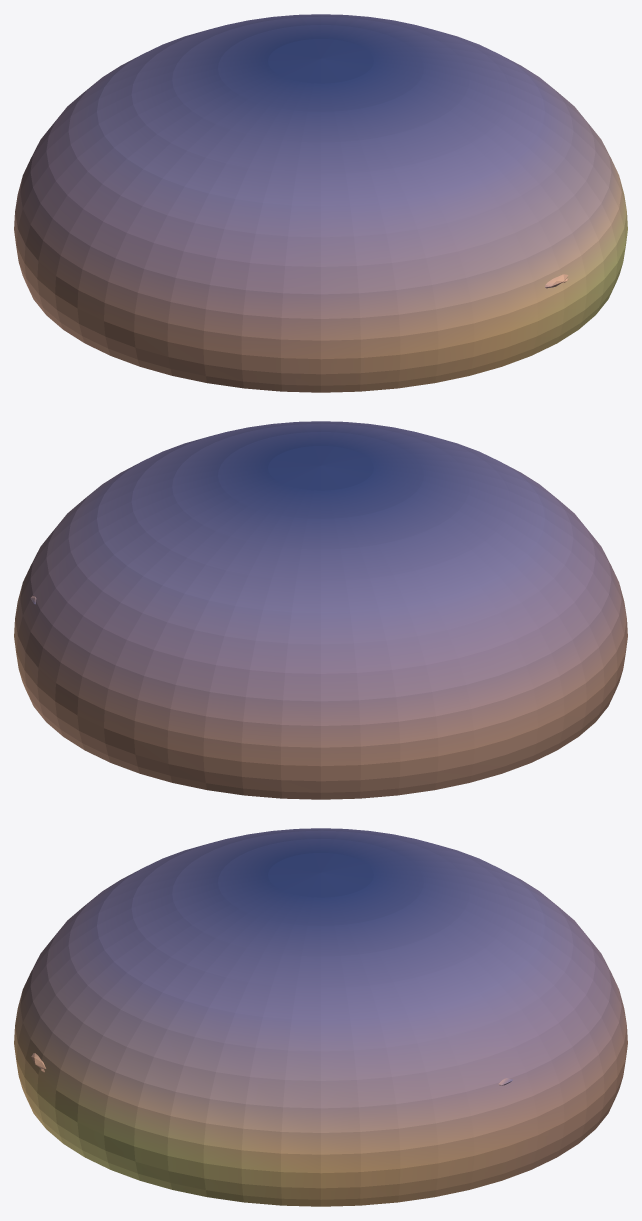
The model's file is set.glb.
The picture shows the model from 3 angles, top to bottom: view 1: azimuth 30°, elevation 25°; view 2: azimuth 150°, elevation 25°; view 3: azimuth 270°, elevation 25°; orthographic projection.
Visible parts, largest first — view 1: RoomGlowSet; view 2: RoomGlowSet; view 3: RoomGlowSet.
Boxes of the visible parts, <box> form: RoomGlowSet: <box>14,14,627,392</box>; RoomGlowSet: <box>14,421,627,799</box>; RoomGlowSet: <box>14,828,627,1206</box>.
Bounding box in the file's own units: 350 × 131 × 350.
